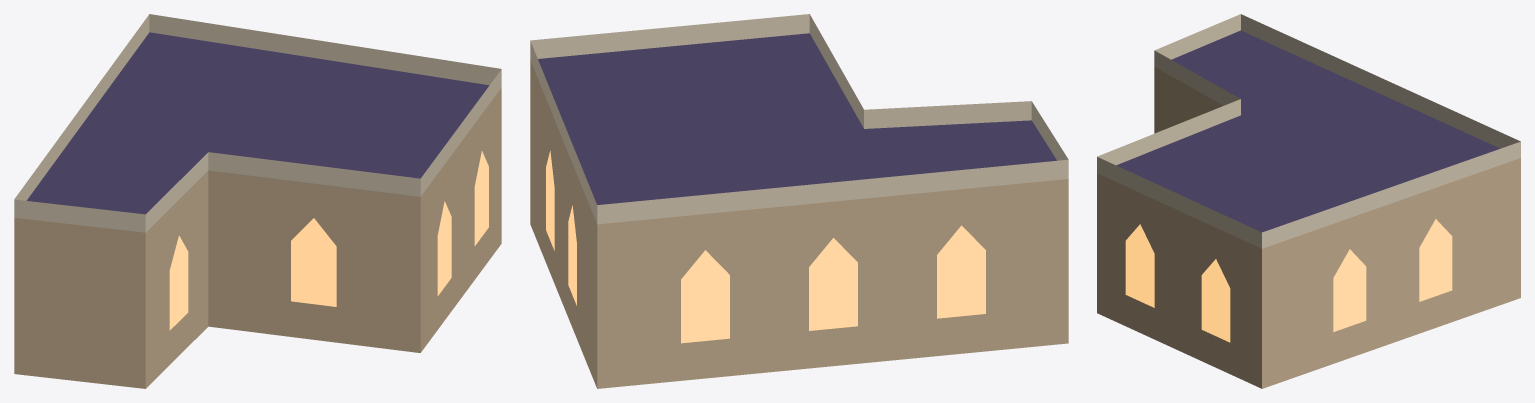
The picture shows the model from 3 angles, left to right: view 1: azimuth 30°, elevation 25°; view 2: azimuth 150°, elevation 25°; view 3: azimuth 270°, elevation 25°; orthographic projection. The views are drawn at different scales.
Visible parts, largest first — view 1: campus/b-004-0; view 2: campus/b-004-0; view 3: campus/b-004-0.
Part boxes in pixels (<box>): campus/b-004-0: <box>14,14,501,388</box>; campus/b-004-0: <box>530,14,1068,388</box>; campus/b-004-0: <box>1097,14,1520,388</box>.
Size of the model in its own units: 15.72 by 5.25 by 12.89.
